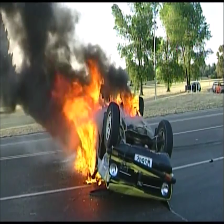fire_h: (50, 59, 109, 175), (121, 91, 142, 117)
fire_l: (85, 172, 102, 186), (110, 91, 121, 105)
